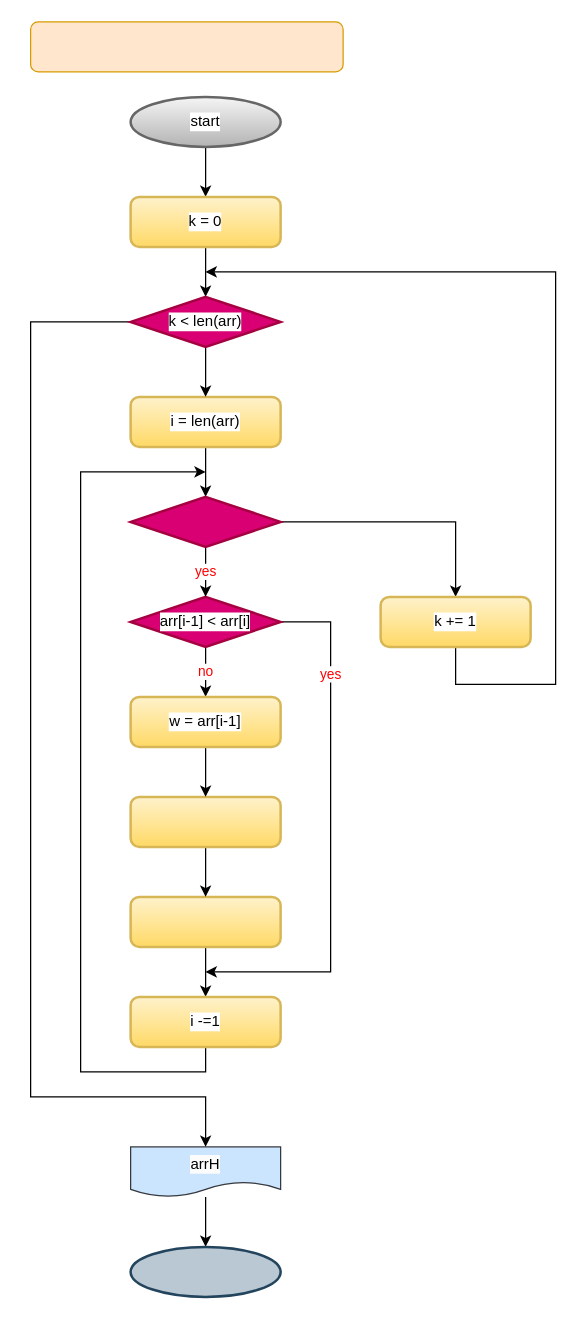
The diagram is 588 pixels wide and 1320 high, and some of its shapes have lost their labels. The centre of each missing label's shape, as x and y in pixels:
"arr[i-1] = arr[i]" goes at point (205, 821).
"arr[i] = w" goes at point (205, 921).
"End" goes at point (205, 1271).
"i > k" goes at point (205, 521).
"단순 교환법" goes at point (186, 46).
